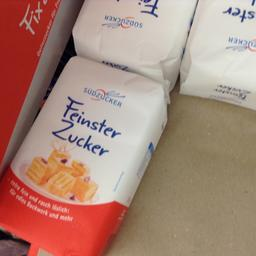sugar: (2, 55, 167, 254), (69, 0, 192, 89), (177, 0, 255, 106)
